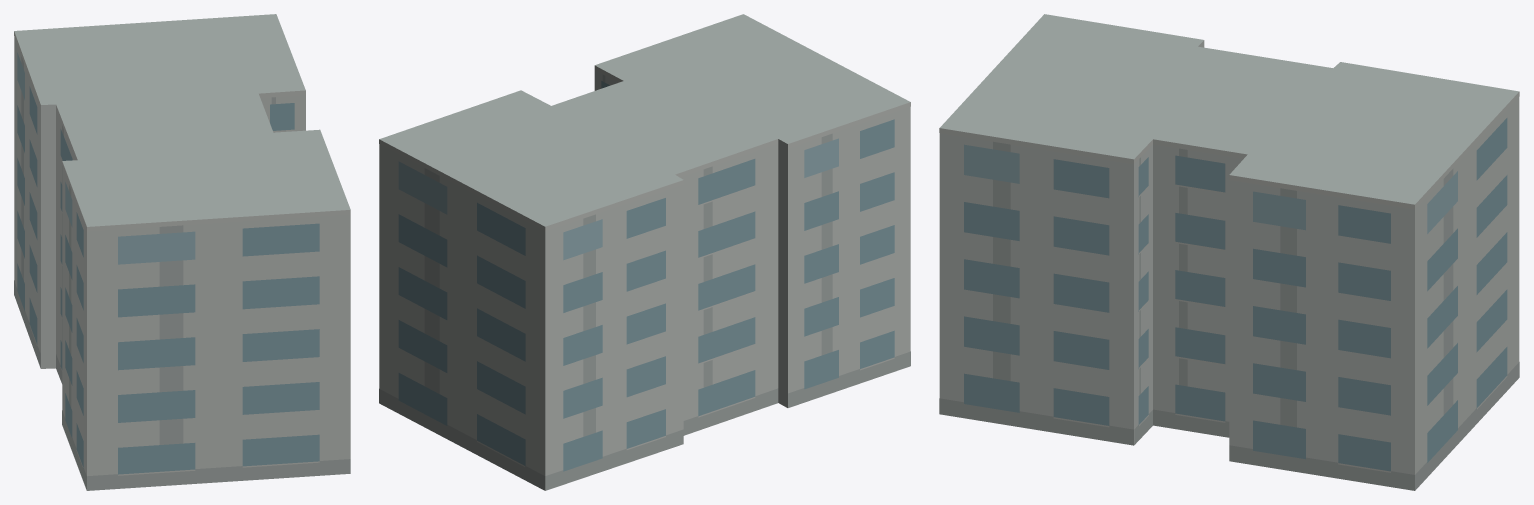
File: survey-upis-32943348.glb
The picture shows the model from 3 angles, left to right: view 1: azimuth 30°, elevation 25°; view 2: azimuth 150°, elevation 25°; view 3: azimuth 270°, elevation 25°; orthographic projection. The views are drawn at different scales.
Parts seen in each view (by area): view 1: survey-upis-32943348.tmp; view 2: survey-upis-32943348.tmp; view 3: survey-upis-32943348.tmp.
Part boxes in pixels (x1,y1,x2,y2): survey-upis-32943348.tmp: [14, 14, 350, 490]; survey-upis-32943348.tmp: [379, 14, 910, 490]; survey-upis-32943348.tmp: [939, 14, 1519, 490].
Size of the model in its own units: 19.58 by 13.7 by 25.17.
